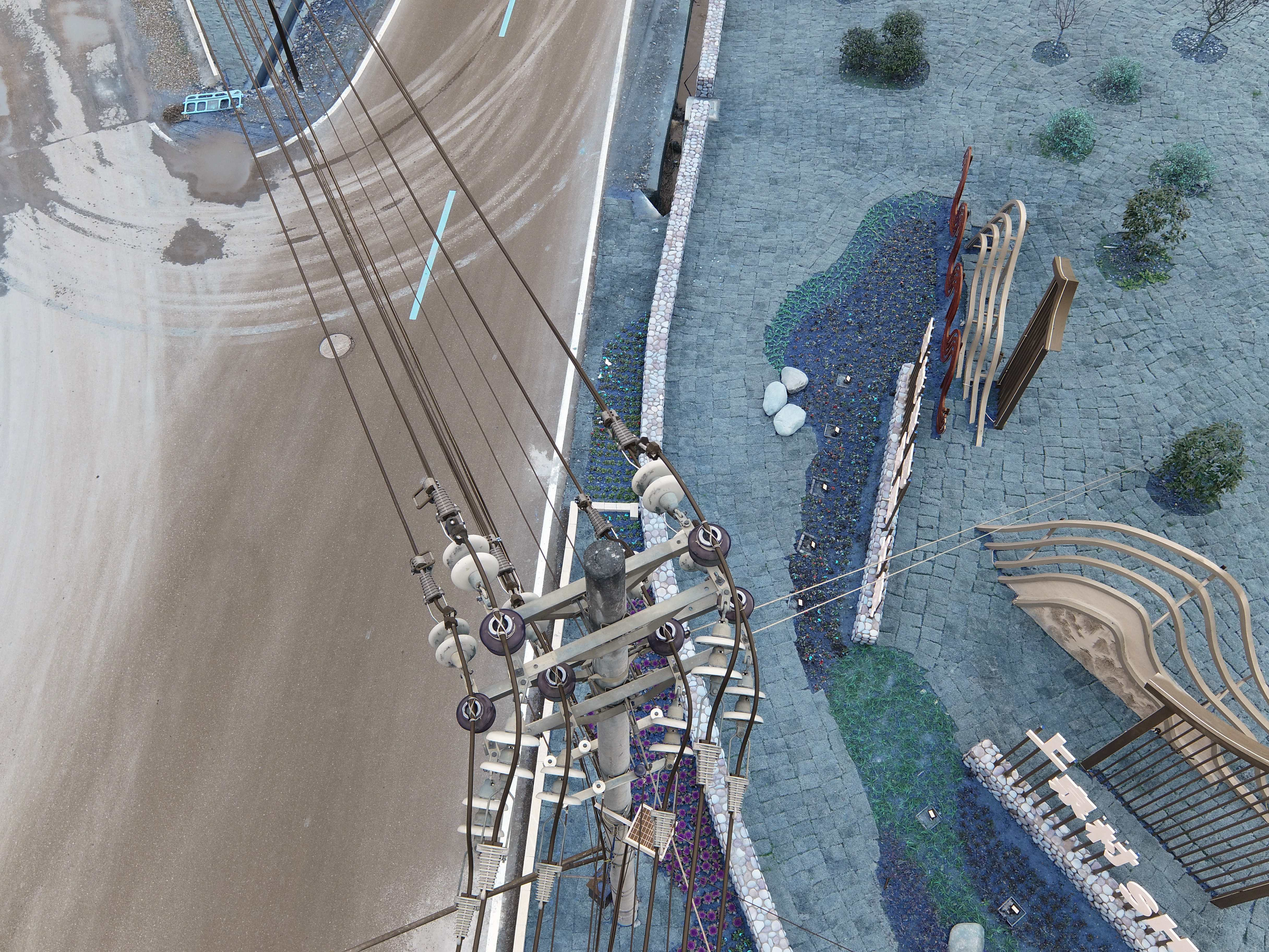severe_soiling_no_discharge_whole: (628, 456, 693, 521), (441, 529, 500, 594), (427, 615, 478, 670)
